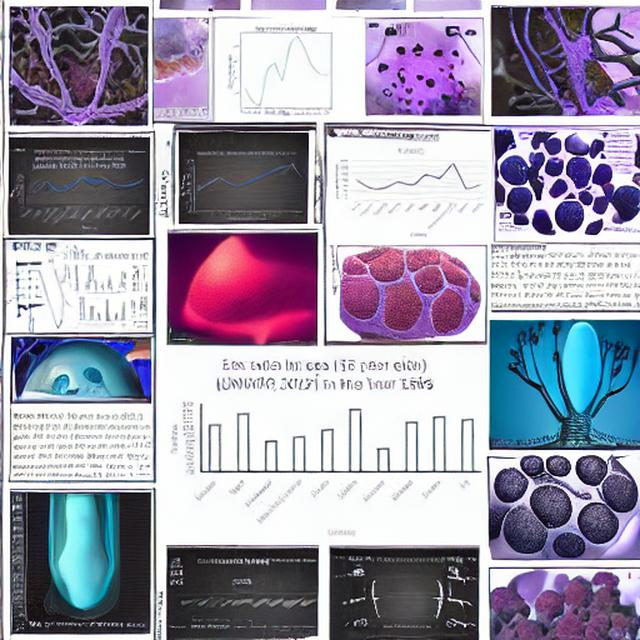Graph: (162, 349, 484, 543), (329, 144, 492, 243), (219, 21, 350, 119), (12, 154, 150, 235), (179, 148, 307, 224), (69, 291, 129, 326)
